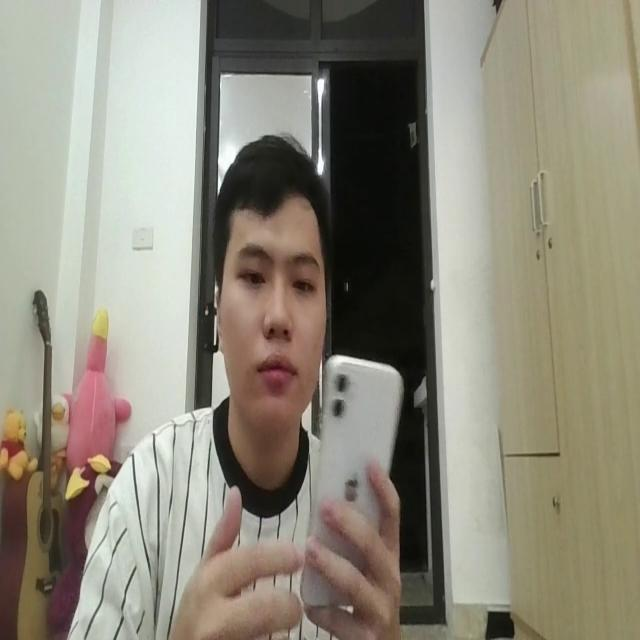phone: (304, 347, 402, 618)
student: (62, 132, 407, 640)
